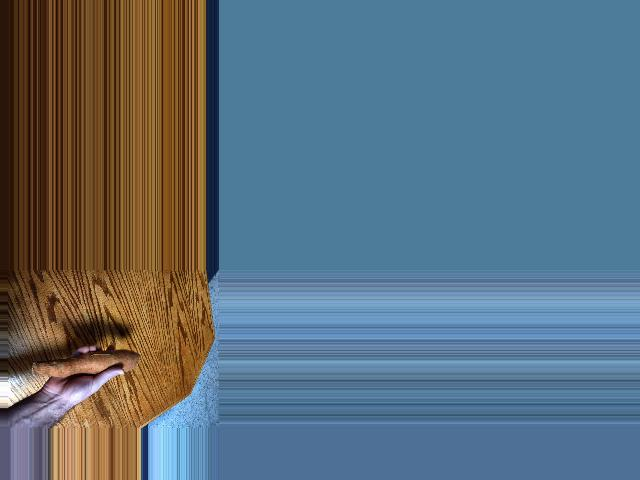sweet_potato: (29, 350, 145, 383)
